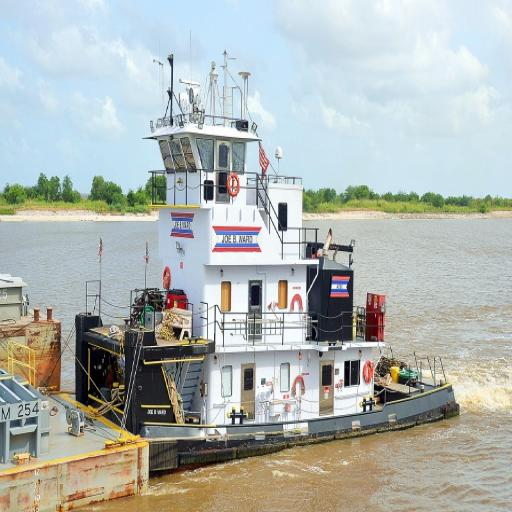tugboat: (73, 50, 466, 480)
